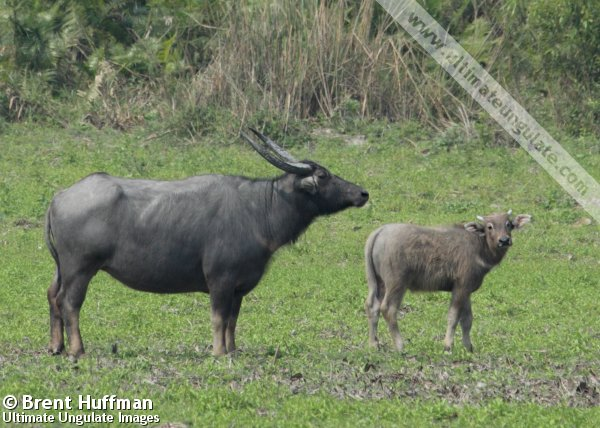buffalo: (47, 131, 370, 370), (364, 203, 537, 360)
